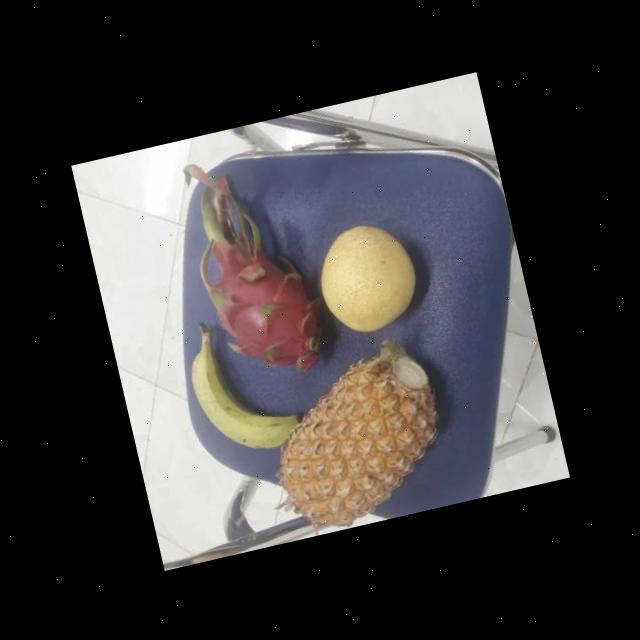banana: (182, 318, 311, 464)
pear: (312, 212, 428, 342)
pineapple: (258, 332, 462, 534)
pitaya: (197, 223, 340, 389)
